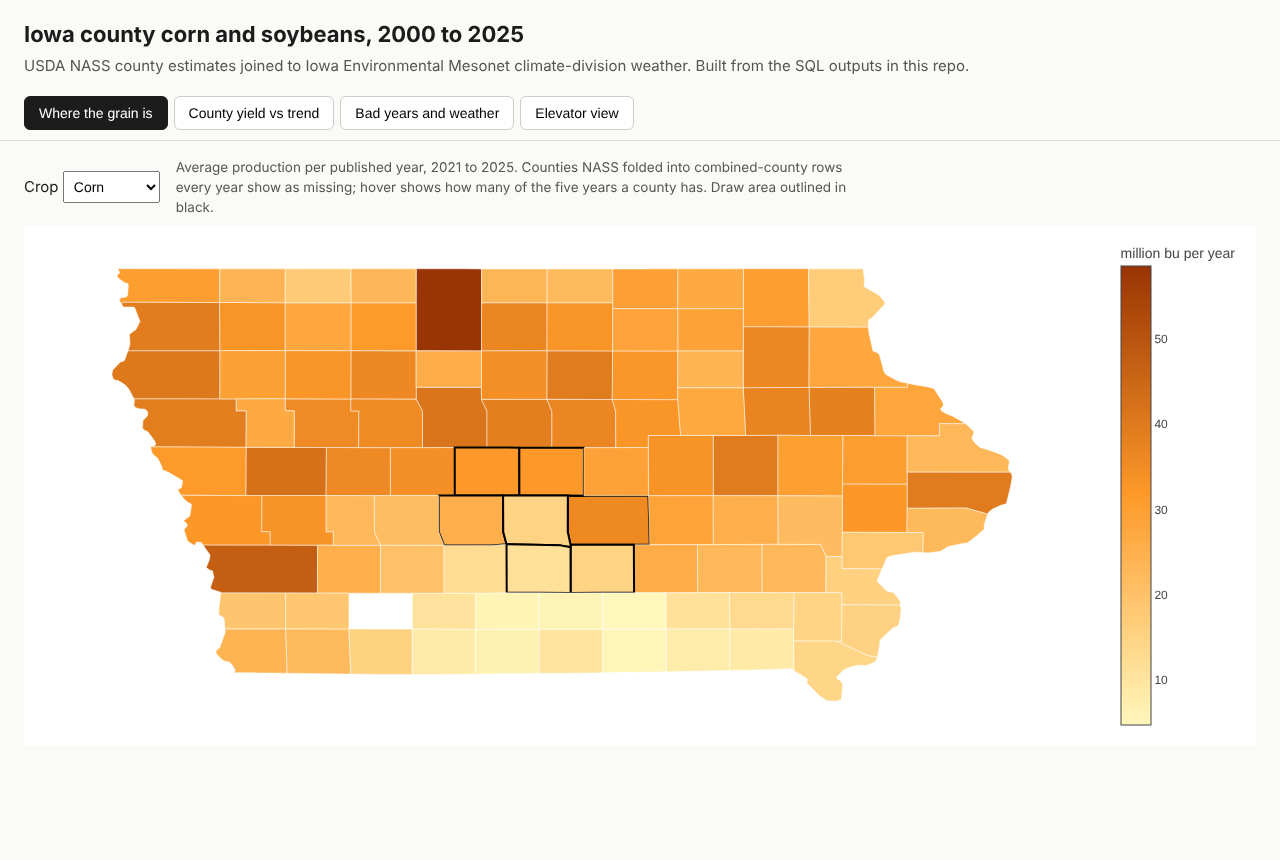

The dashboard page shown, as its layout file describes it:
{"tool":"powerbi","page":{"name":"Where the grain is","canvas":[1280,720],"ordinal":0},"visuals":[{"type":"textbox","box":[24,14,940,48],"z":1000},{"type":"slicer","fields":{"Values":["Crop Type.Crop"]},"box":[996,16,260,48],"z":1100},{"type":"cardVisual","fields":{"Data":["Crop Year.Recent Production per Year (M bu)","Crop Year.Counties Published","Crop Year.Draw Area Production per Year (M bu)","Crop Year.Draw Area Share of State"]},"box":[24,70,1232,92],"z":1200},{"type":"shapeMap","title":"Million bushels per published year by county, 2021 to 2025 (darker is more)","fields":{"Category":["County.County"],"Value":["Crop Year.Recent Production per Year (M bu)"]},"box":[24,174,720,522],"z":1300},{"type":"tableEx","title":"Counties ranked by production per published year","fields":{"Values":["County.County","Crop Year.Recent Production per Year (M bu)","Crop Year.Share of Published Counties","Crop Year.Published Years"]},"box":[768,174,488,522],"z":1400}]}

Visuals, with their boxes on the page's 1280x720 design canvas (x1, y1, x2, y2). These are canvas units, not pixel positions in the 1280x860 screenshot, which may show the page scaled, cropped or inside an application window:
textbox: crop(24, 14, 964, 62)
slicer - Crop Type.Crop: crop(996, 16, 1256, 64)
cardVisual - Crop Year.Recent Production per Year (M bu) x Crop Year.Counties Published: crop(24, 70, 1256, 162)
"Million bushels per published year by county, 2021 to 2025 (darker is more)" shapeMap: crop(24, 174, 744, 696)
"Counties ranked by production per published year" tableEx: crop(768, 174, 1256, 696)
